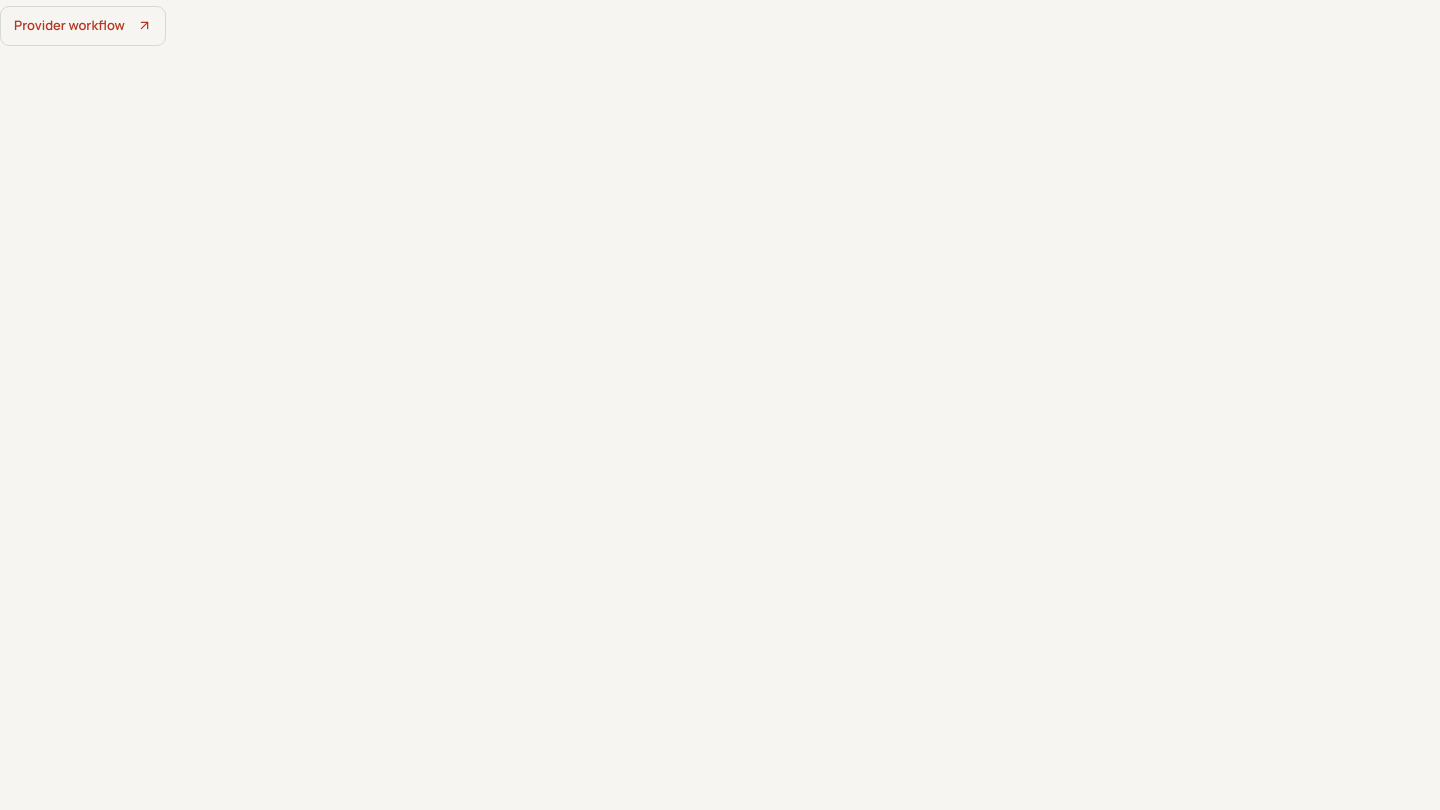
Scenario: keeps the outer workflow open when a nested dialog receives close
The image size is (1440, 810).
Later steps or results of the test are not shown.
Click the button "Provider workflow": (83, 26) [0,6,166,46]
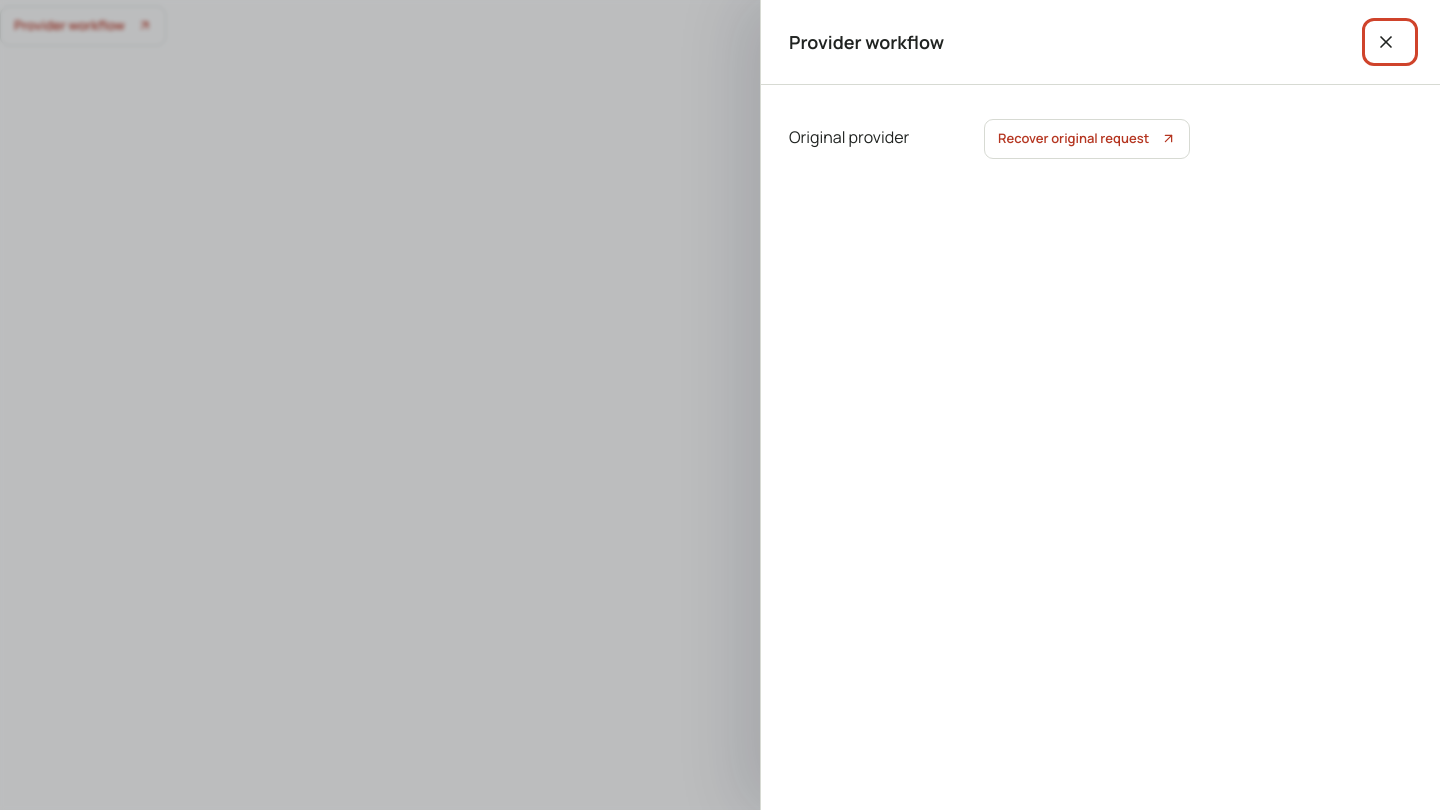
Click the button "Recover original request": (1087, 139) [984,119,1190,158]
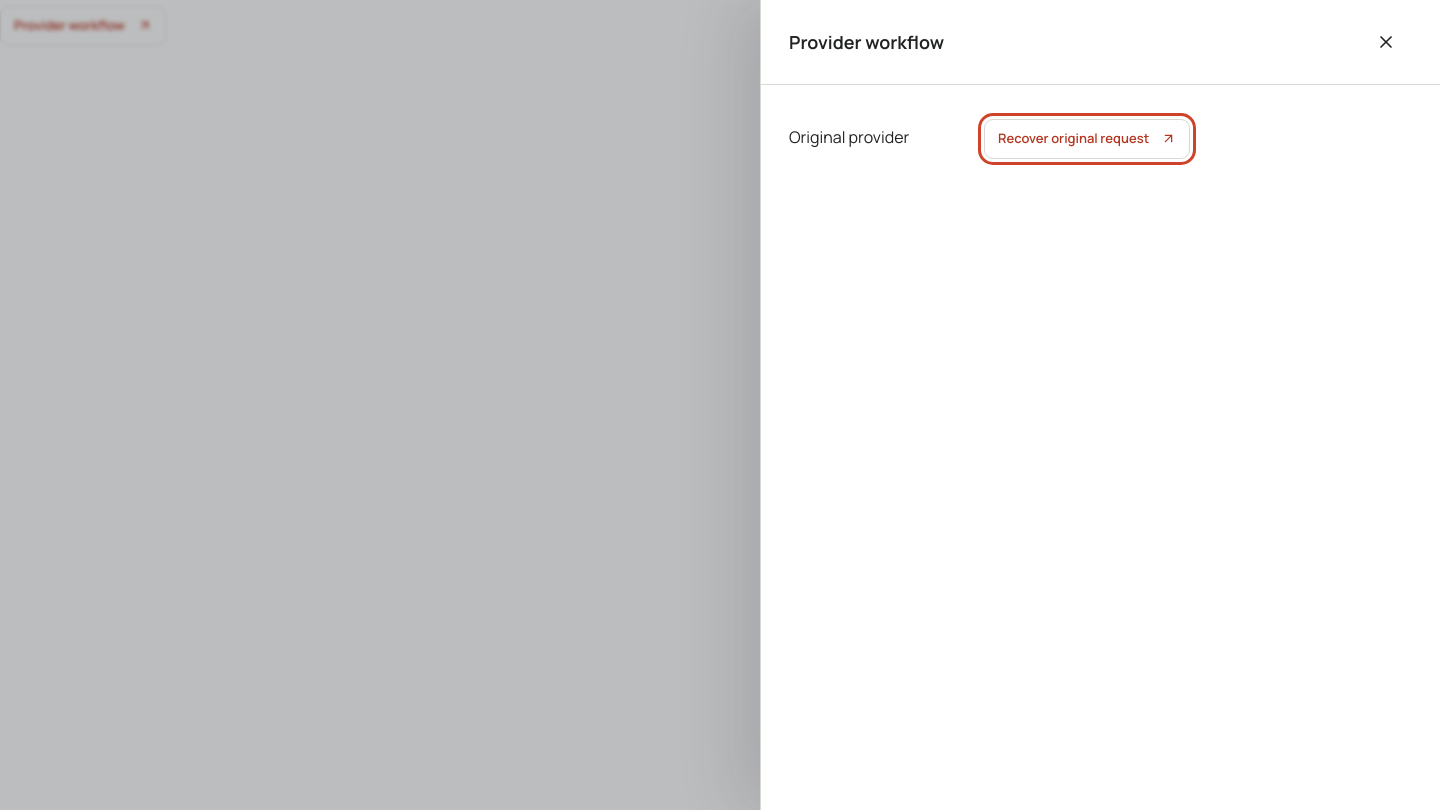
Now the dialog "Provider workflow" is shown, box [760,0,1439,809]
Now the field named "Provider draft" holds "Original provider", box [789,125,984,149]
